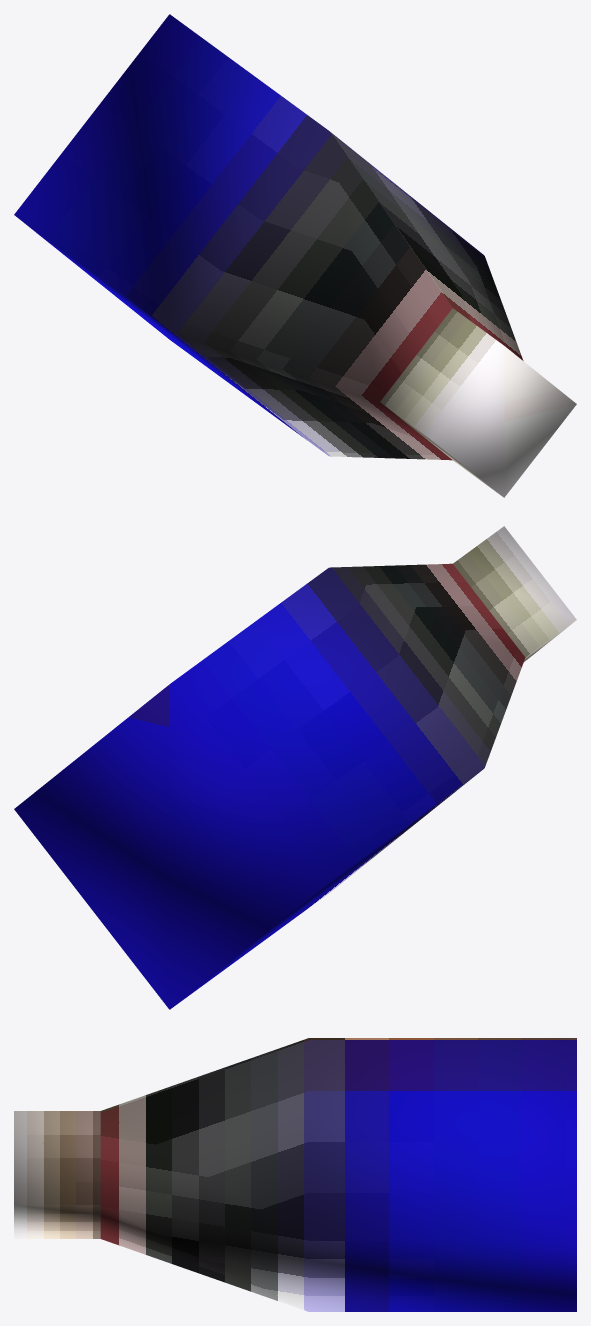
File: Potion05.glb
3 renders of one model, top to bottom at view 1: azimuth 30°, elevation 25°; view 2: azimuth 150°, elevation 25°; view 3: azimuth 270°, elevation 25°, orthographic. The views are drawn at different scales.
Parts seen in each view (by area): view 1: model_Potion05; view 2: model_Potion05; view 3: model_Potion05.
Part boxes in pixels (box(x1,y1,x2,y2)): model_Potion05: box(14, 14, 576, 497); model_Potion05: box(14, 526, 576, 1009); model_Potion05: box(14, 1038, 576, 1311).
Bounding box in the file's own units: 0.1466 × 0.1466 × 0.2731.
Materials: 2 (2 with a texture image).
